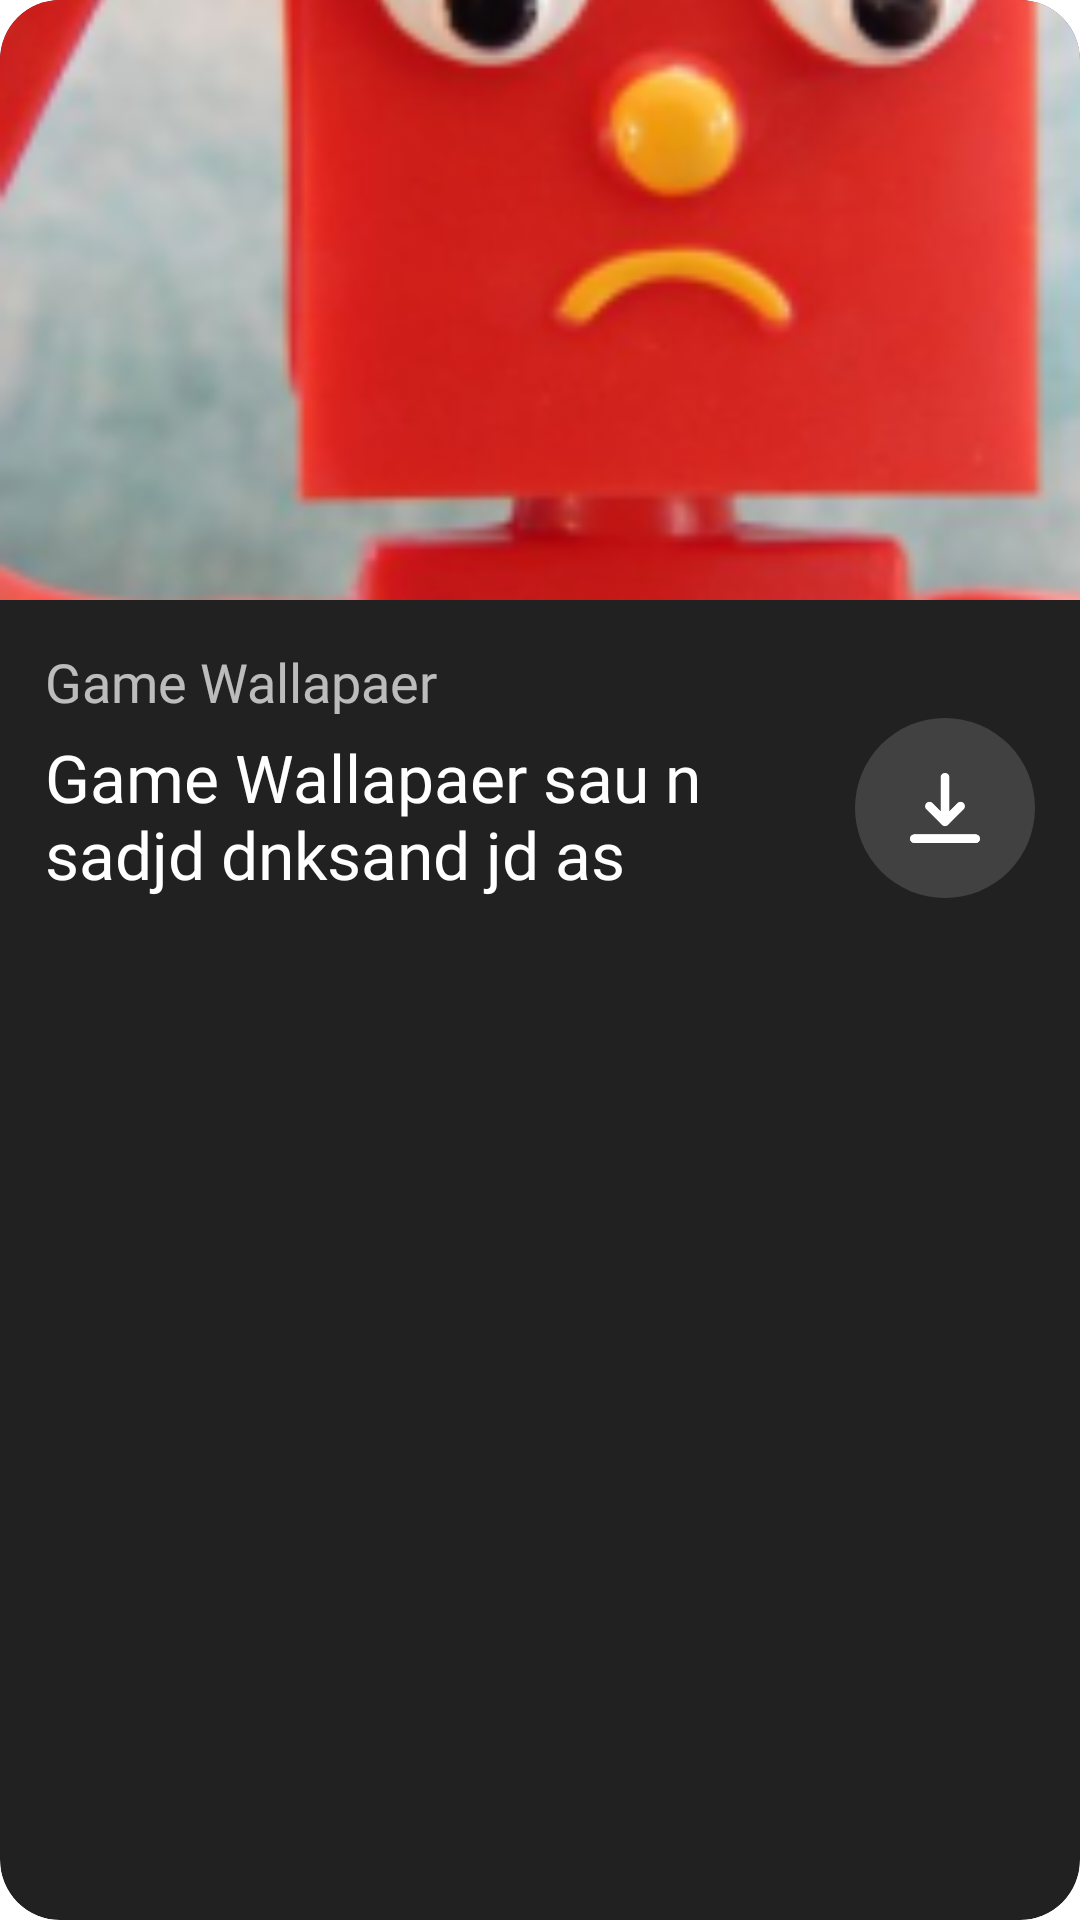

Screen size 1080*1920. Icon name, then its box in pixels as (left=x1, top=y1, right=x2, bottom=y2):
download: (left=855, top=718, right=1035, bottom=898)
